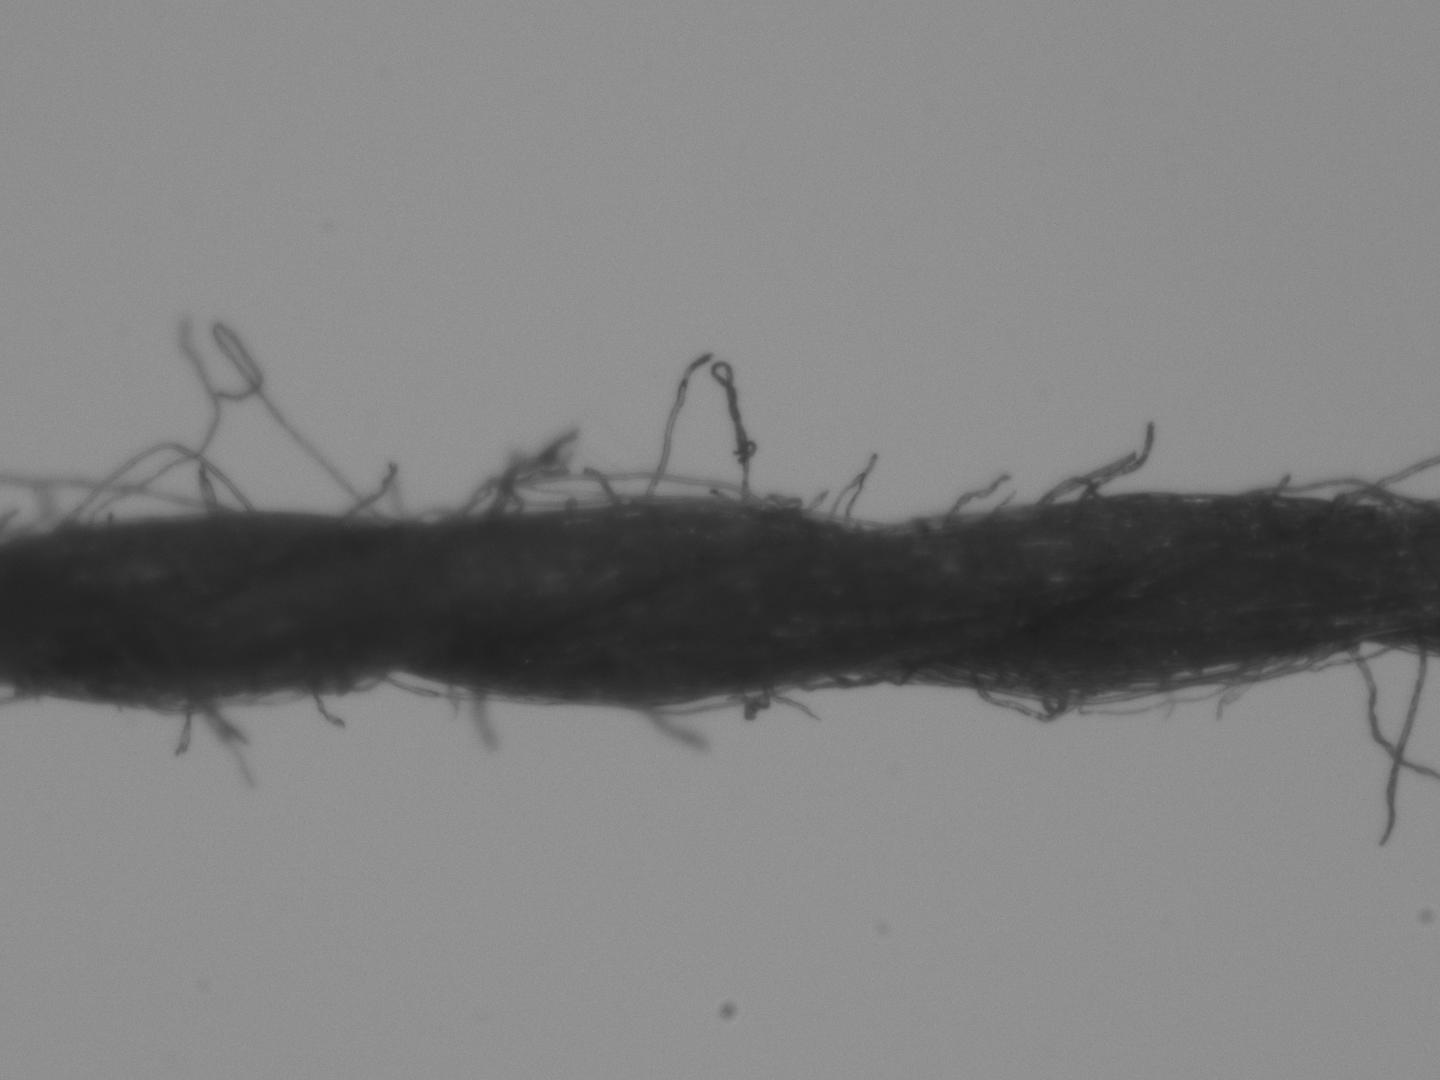loop_fiber: (455, 466, 760, 520), (60, 441, 248, 526), (1123, 644, 1322, 692), (379, 673, 562, 707), (646, 684, 790, 717), (1250, 473, 1395, 503), (972, 684, 1079, 722), (794, 669, 878, 692), (1044, 474, 1101, 504)
